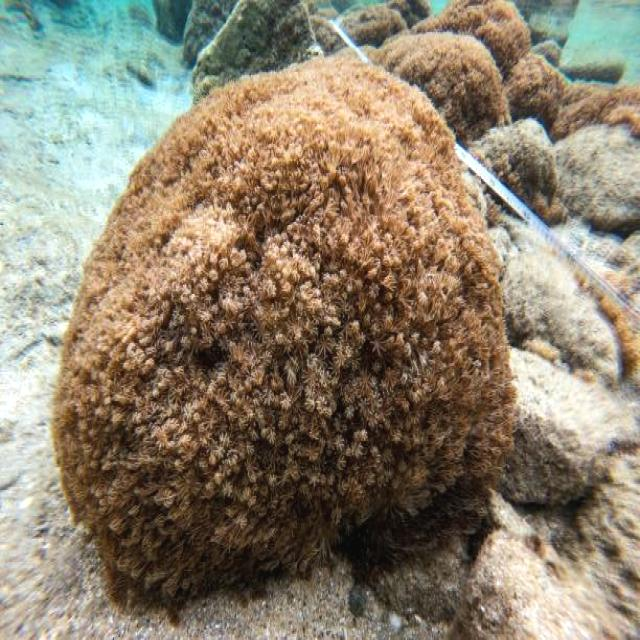Coral: (49, 56, 518, 613), (333, 30, 513, 150), (500, 49, 640, 142), (411, 0, 531, 83)
